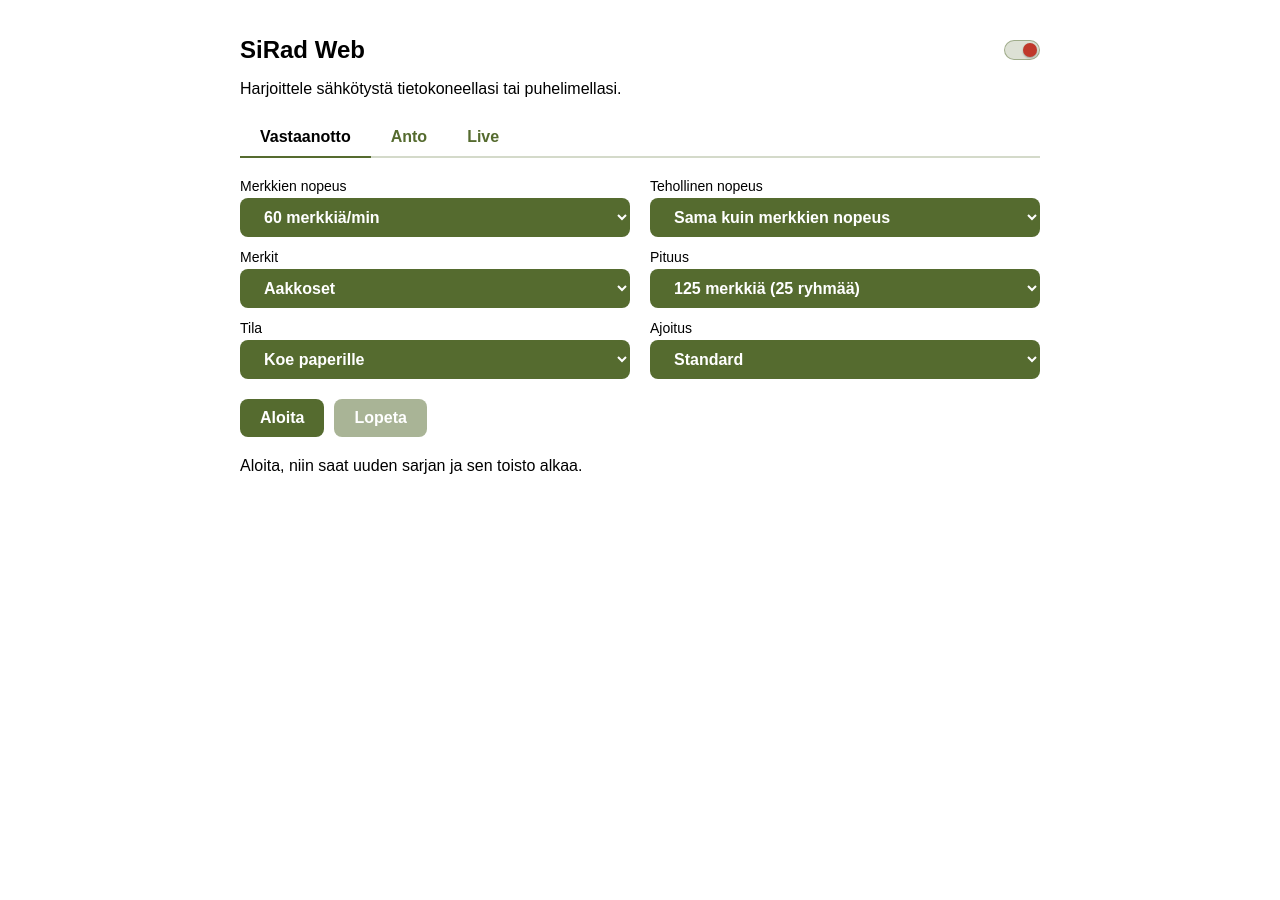
App › the switch of the connection › tells in the Live mode that the connection has to be switched on
Click the tab "Live".
click(483, 138)  # box [447, 118, 519, 158]
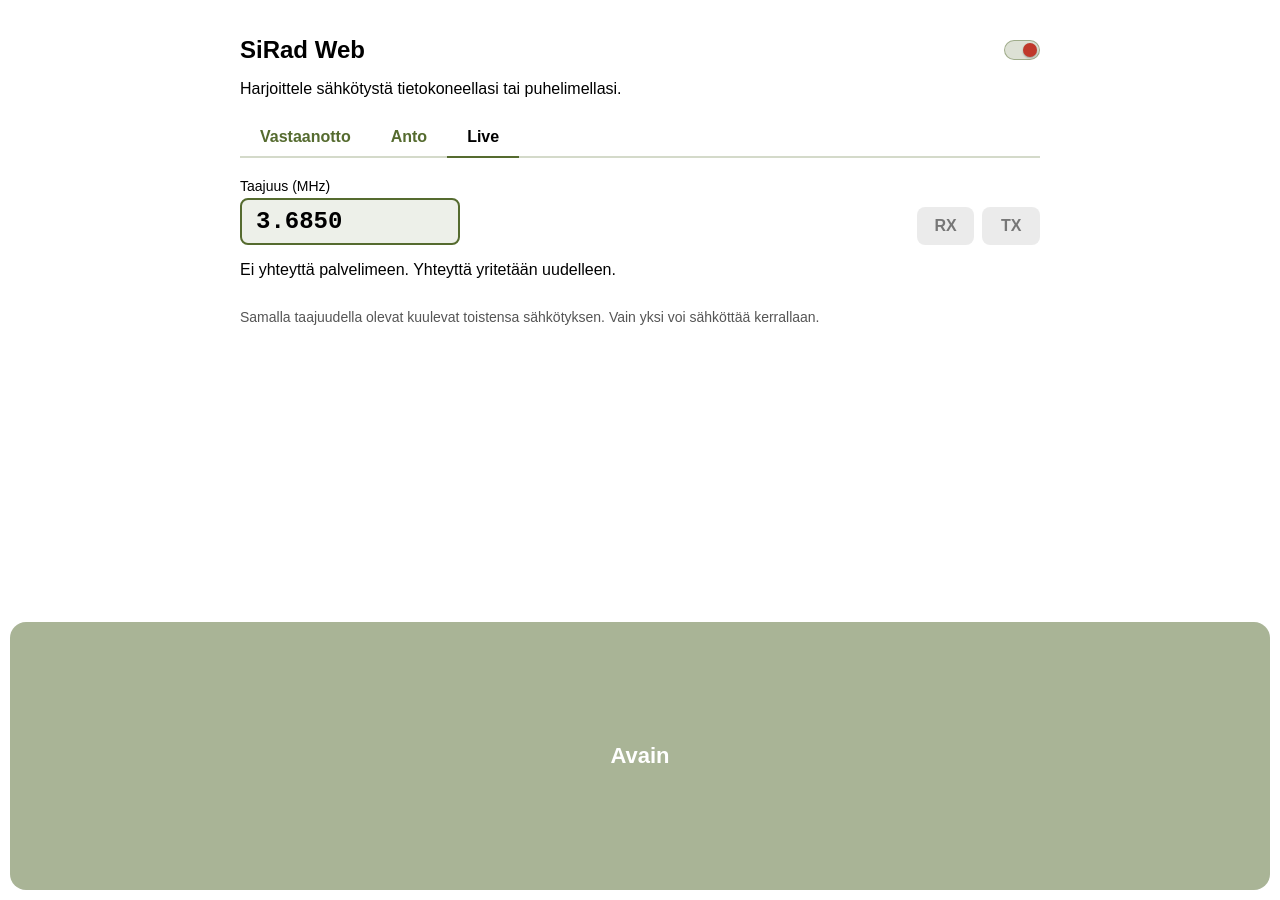
Expected: the text "Yhteys palvelimeen on pois päältä. Kytke se päälle" is not shown
Click the switch named "Yhteys palvelimeen".
click(1022, 50)  # box [1004, 40, 1040, 60]
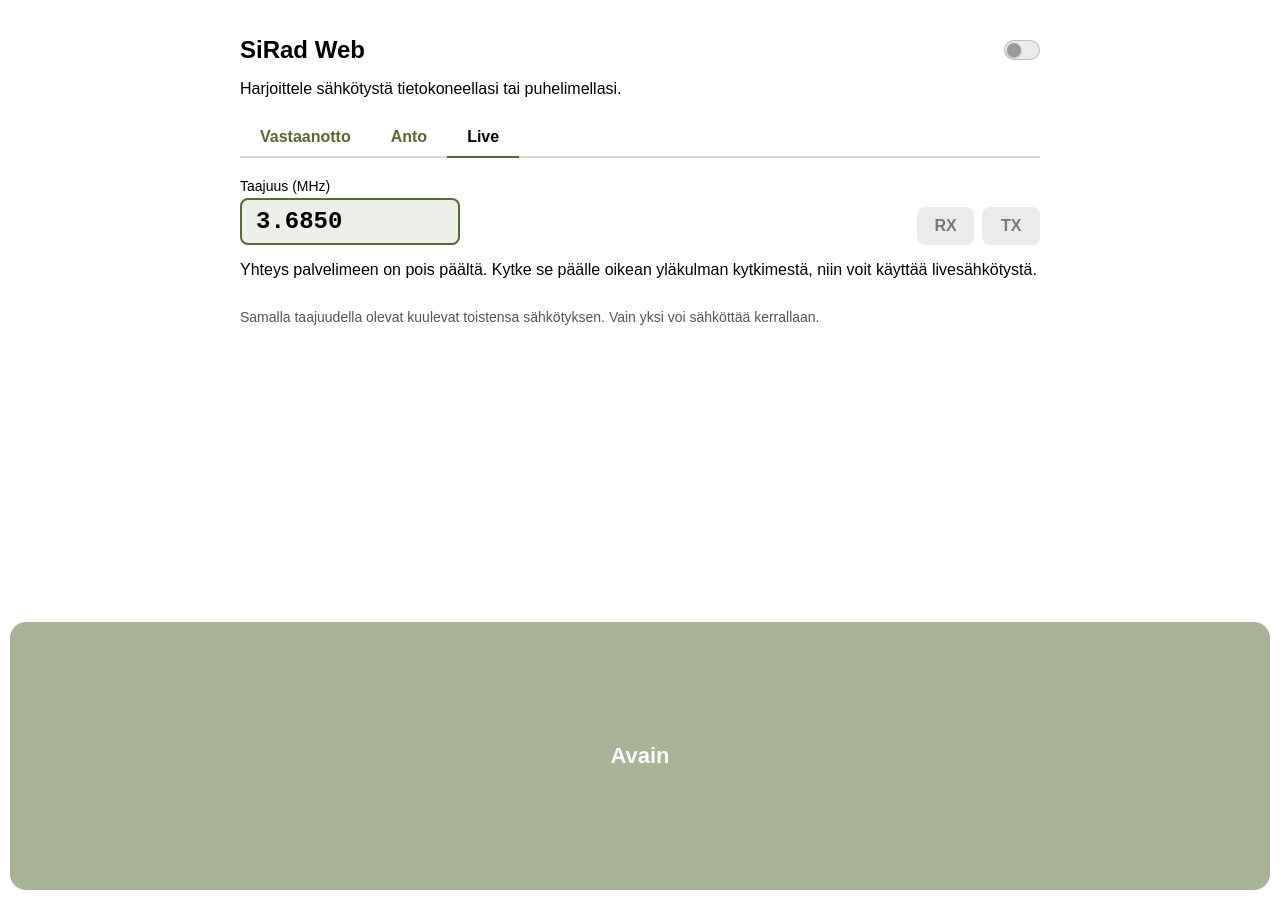
Expected: the button with aria-label "Sähkötysavain" is disabled, [10, 622, 1270, 890]
Expected: the text "Yhteys palvelimeen on pois päältä. Kytke se päälle" is shown, [240, 261, 1037, 278]
